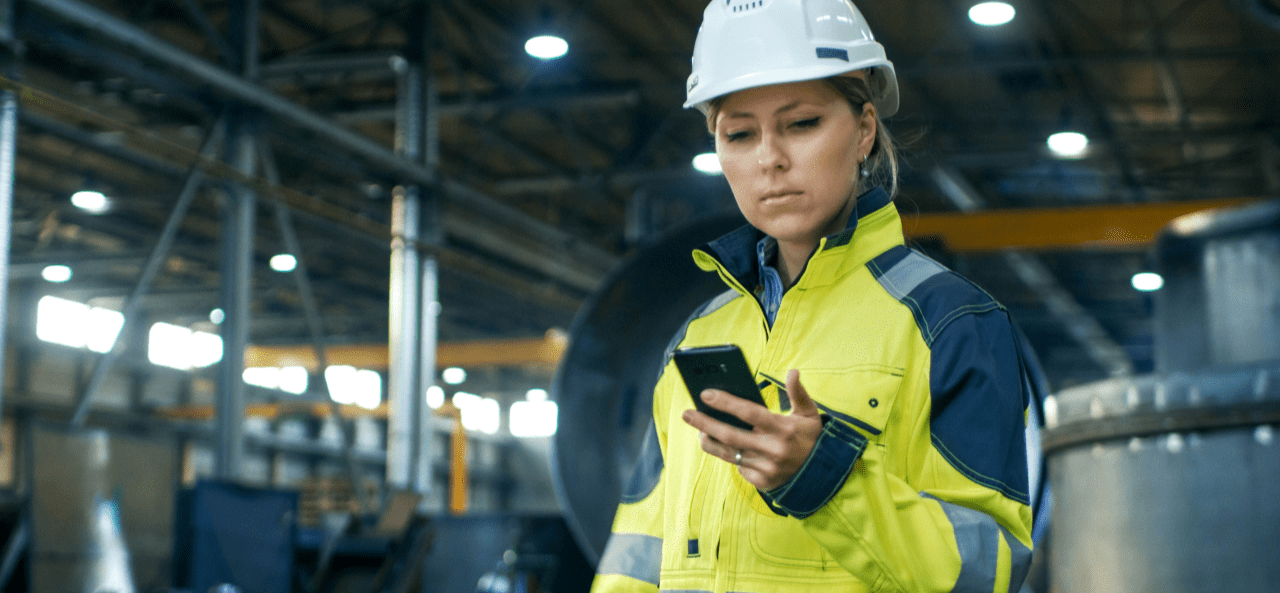Hard Hat: (661, 1, 915, 106)
